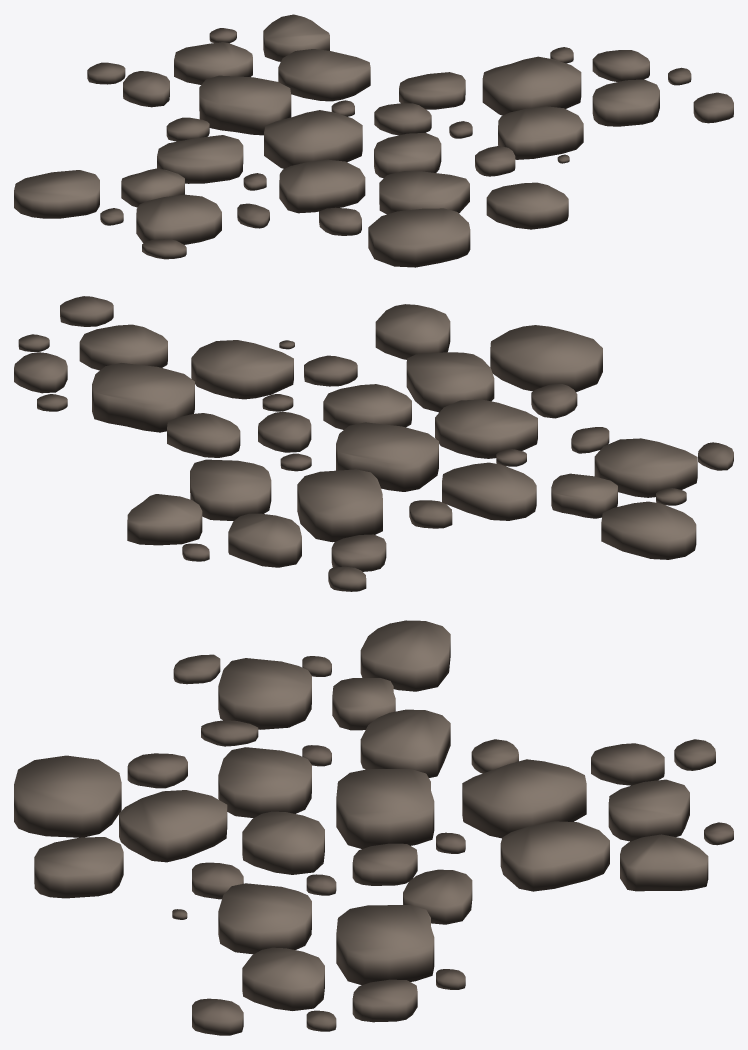
File: obj_PathCross.fbx
The picture shows the model from 3 angles, top to bottom: view 1: azimuth 30°, elevation 25°; view 2: azimuth 150°, elevation 25°; view 3: azimuth 270°, elevation 25°; orthographic projection. The views are drawn at different scales.
Visible parts, largest first — view 1: obj_PathCross; view 2: obj_PathCross; view 3: obj_PathCross.
Part boxes in pixels (<box>): obj_PathCross: <box>14,14,733,267</box>; obj_PathCross: <box>14,296,733,591</box>; obj_PathCross: <box>14,620,733,1035</box>.
Bounding box in the file's own units: 2362 × 94.2 × 1810.
